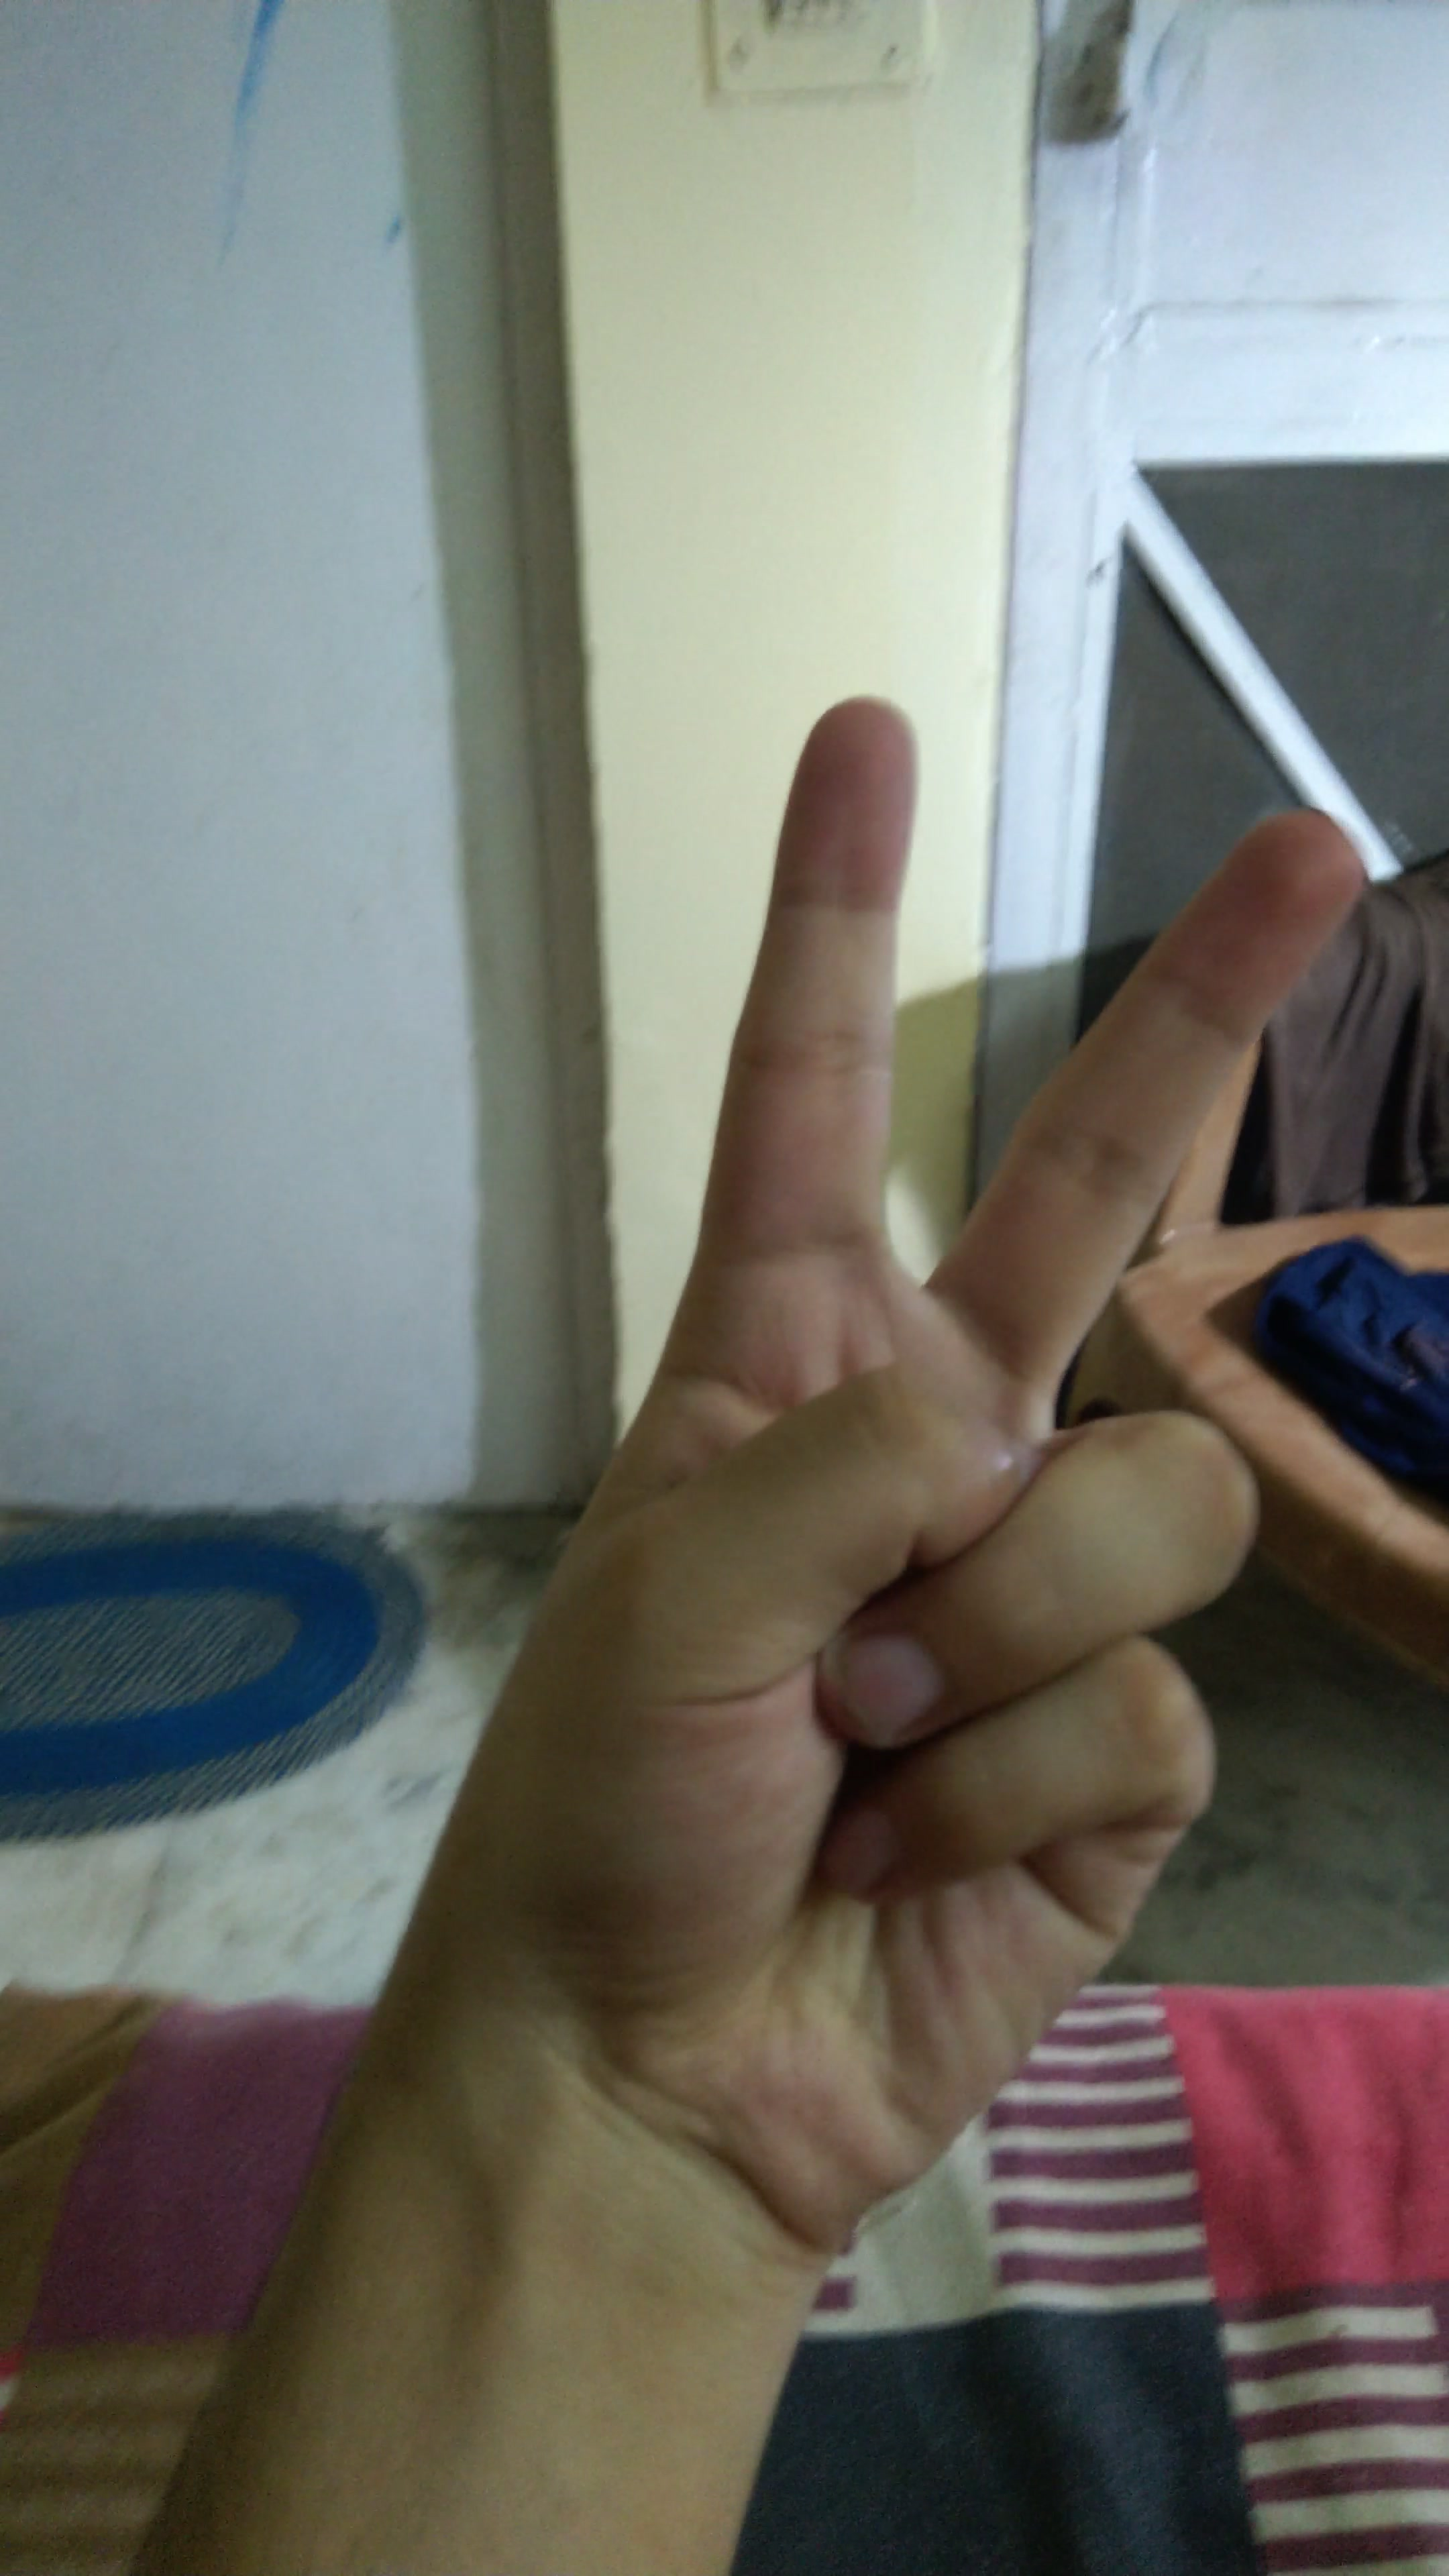hand: (418, 628, 1369, 2337)
